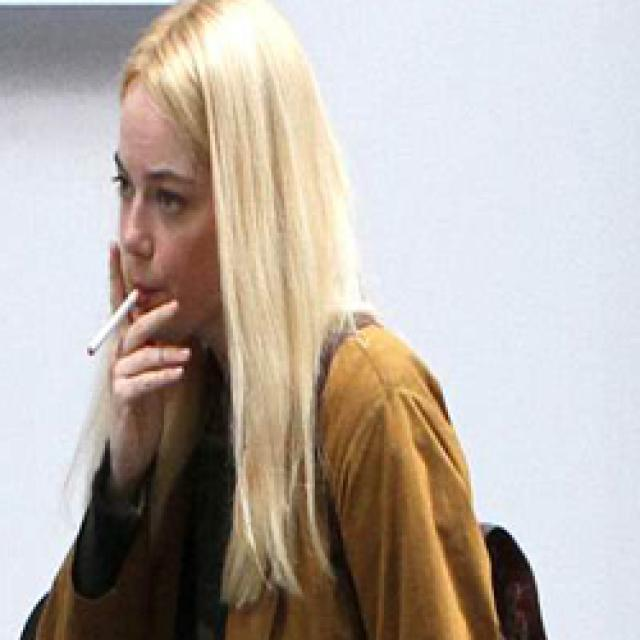Smooking: (72, 277, 146, 368)
